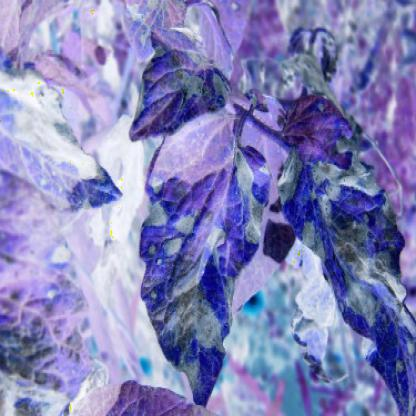tomato early blight leaf: (268, 98, 415, 408), (149, 114, 267, 406), (4, 60, 130, 216), (131, 25, 234, 133)
